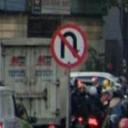NoVirarU: (48, 22, 90, 70)
